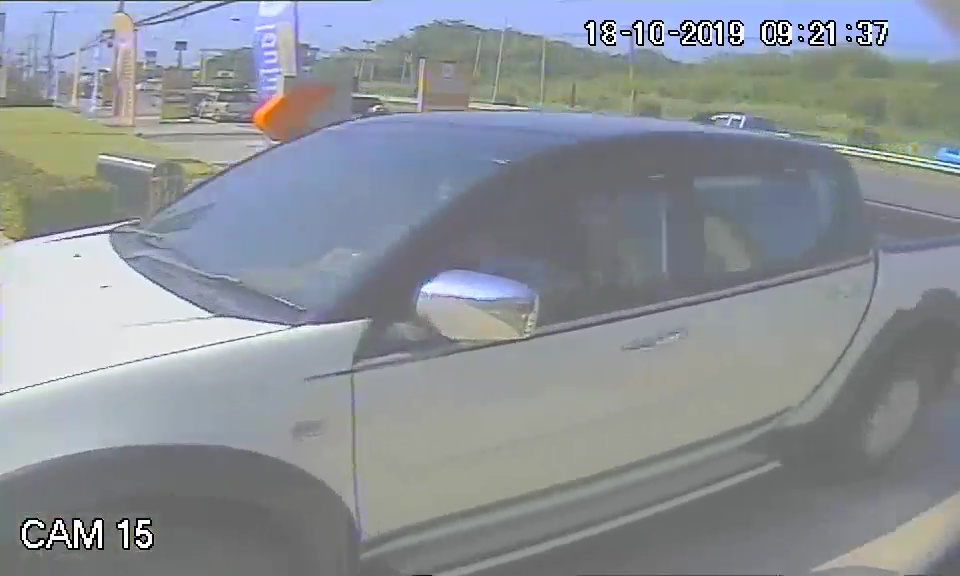pickup: (8, 107, 955, 555)
